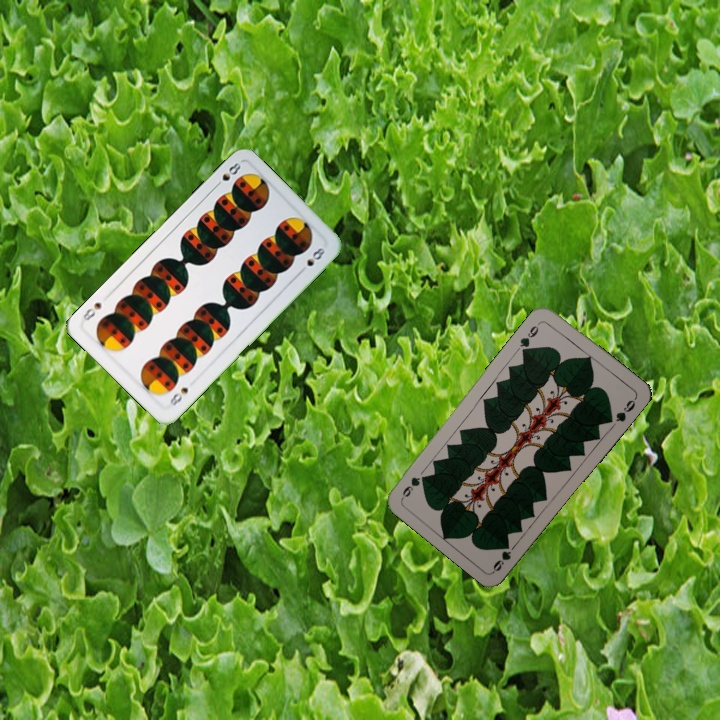G9: (515, 317, 544, 354), (489, 540, 514, 574)
S8: (210, 159, 244, 191), (166, 383, 191, 409)
